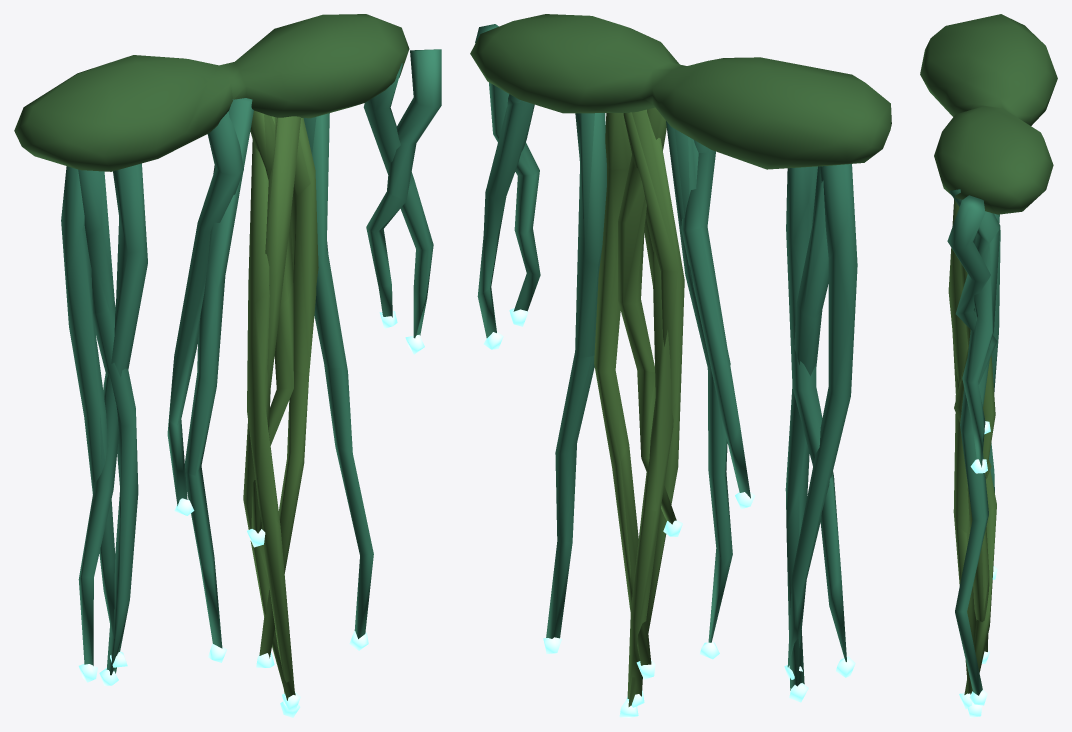
File: grotto_algae_curtain_lod1.glb
The picture shows the model from 3 angles, left to right: view 1: azimuth 30°, elevation 25°; view 2: azimuth 150°, elevation 25°; view 3: azimuth 270°, elevation 25°; orthographic projection. The views are drawn at different scales.
Visible parts, largest first — view 1: grotto_algae_curtain.001; view 2: grotto_algae_curtain.001; view 3: grotto_algae_curtain.001.
Part boxes in pixels (x1=…): grotto_algae_curtain.001: x1=14, y1=14, x2=441, y2=717; grotto_algae_curtain.001: x1=470, y1=14, x2=891, y2=717; grotto_algae_curtain.001: x1=920, y1=14, x2=1057, y2=717.
Bounding box in the file's own units: 5.44 × 8.68 × 1.77.
